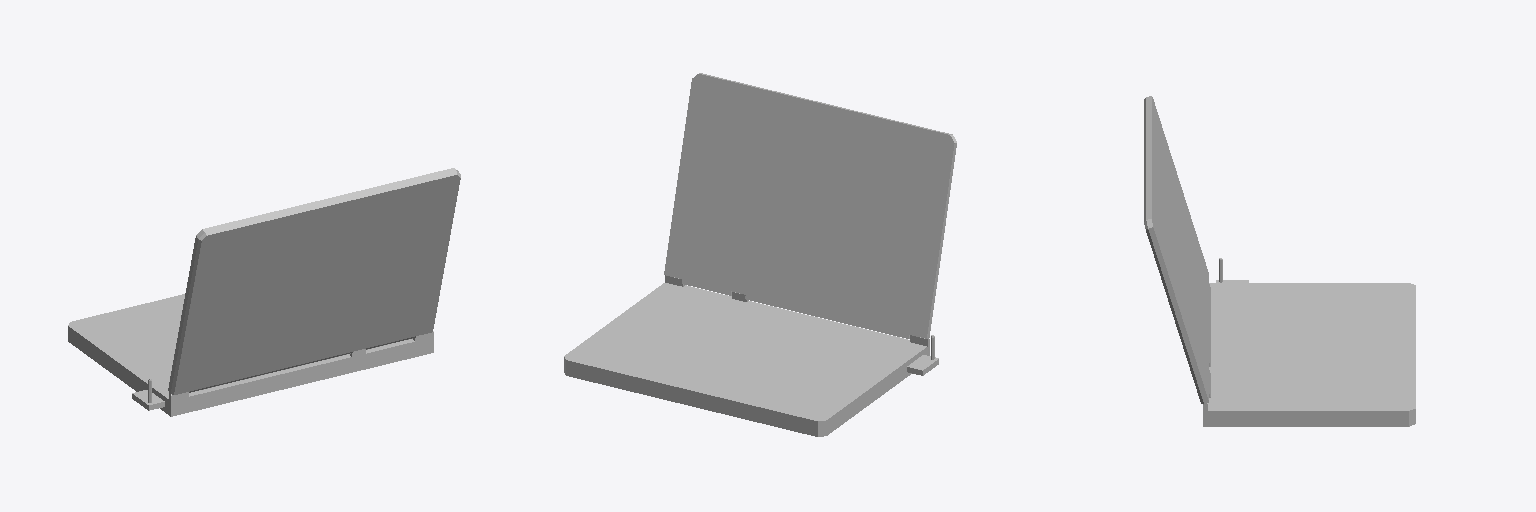
The model's file is notebook.obj.
The picture shows the model from 3 angles: view 1: azimuth 30°, elevation 25°; view 2: azimuth 150°, elevation 25°; view 3: azimuth 270°, elevation 25°; orthographic projection.
Visible parts, largest first — view 1: 0.006; view 2: 0.006; view 3: 0.006.
Boxes of the visible parts, x1,y1,x2,y2 form: 0.006: [68, 168, 460, 416]; 0.006: [564, 73, 956, 436]; 0.006: [1144, 96, 1415, 426].
Size of the model in its own units: 0.4731 by 0.333 by 0.3999.